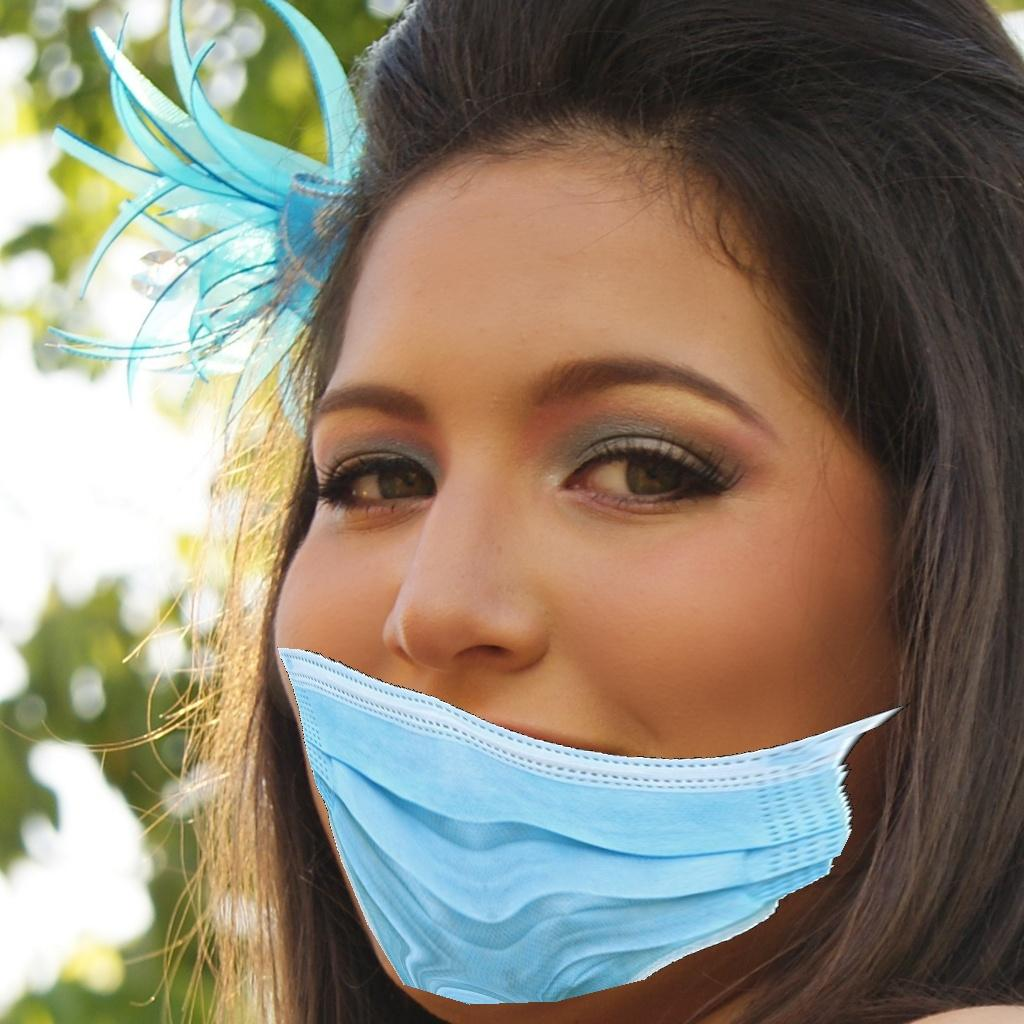Máscara Incorreta: (275, 293, 861, 973)
